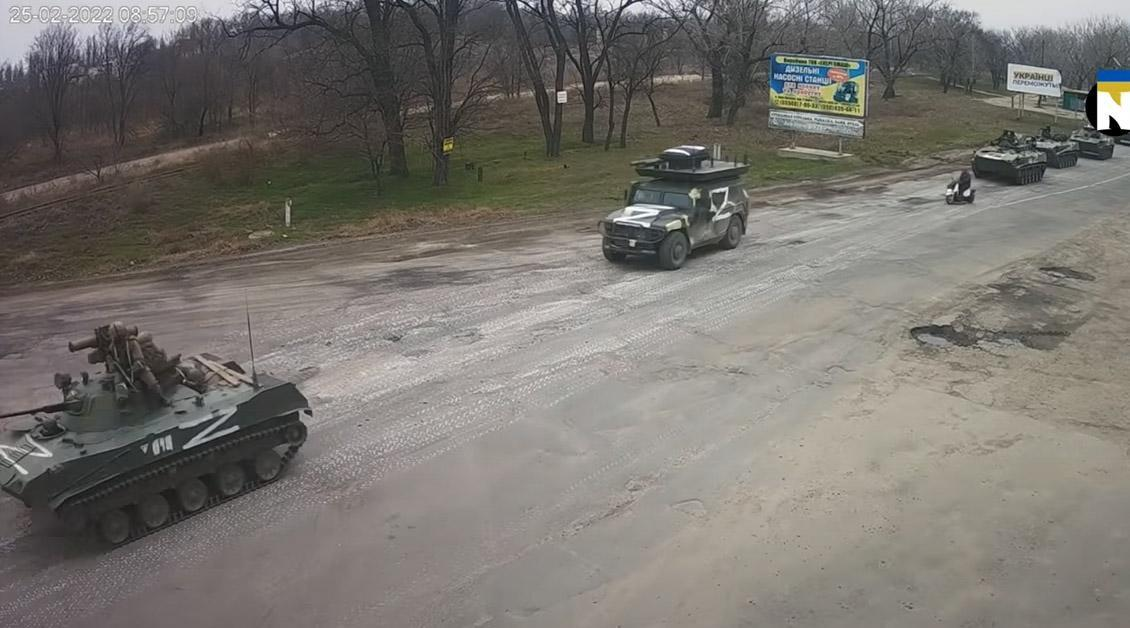armored_car: (598, 145, 749, 269)
tank: (0, 320, 321, 553), (972, 131, 1046, 190), (1030, 128, 1078, 171), (1073, 125, 1119, 169)
